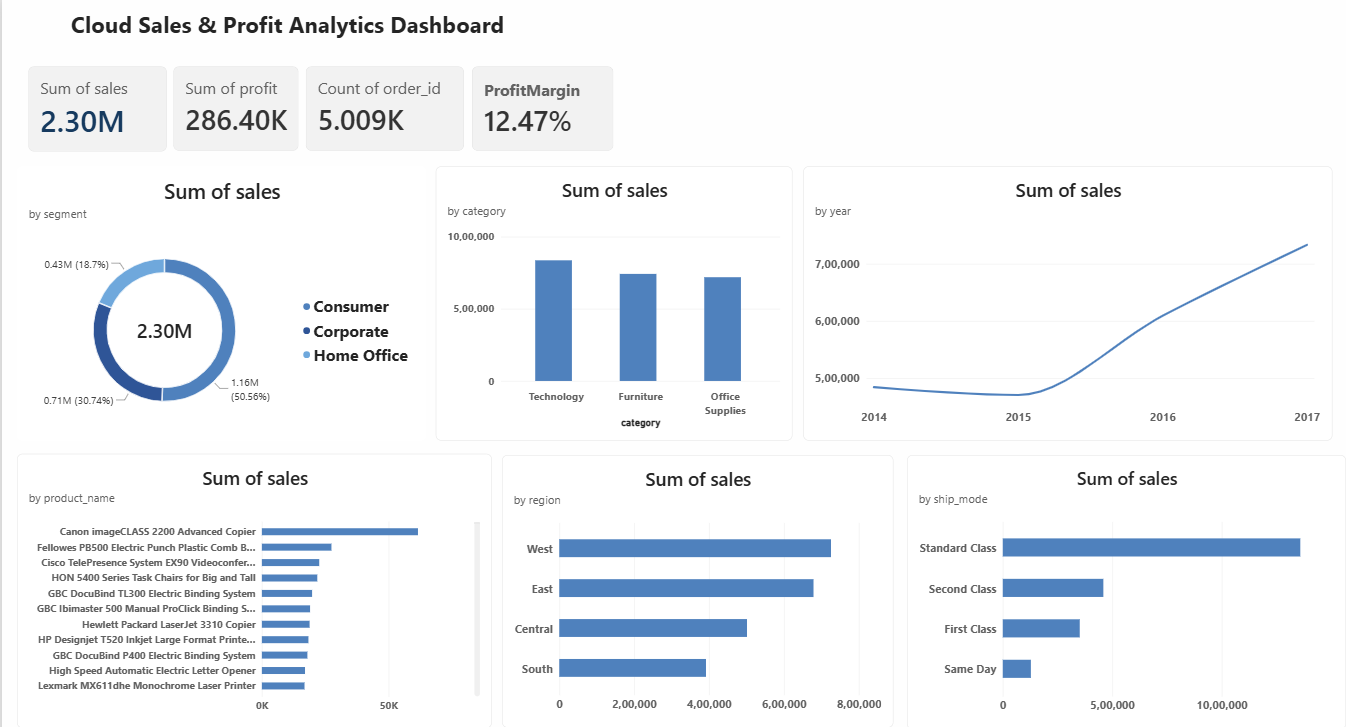

What the dashboard file says about the page in this screenshot:
{"tool":"powerbi","page":{"name":"Page 1","canvas":[1920,1080],"ordinal":0},"visuals":[{"type":"cardVisual","fields":{"Data":["Sum(cloud_analytics fact_sales.sales)"]},"box":[36.8,93.8,198.2,122.3],"z":0},{"type":"cardVisual","fields":{"Data":["Sum(cloud_analytics fact_sales.profit)"]},"box":[244,95.4,179.8,121.1],"z":1000},{"type":"cardVisual","fields":{"Data":["Count(cloud_analytics fact_sales.order_id)"]},"box":[434,93.8,226.2,121.4],"z":2000},{"type":"columnChart","fields":{"Category":["cloud_analytics dim_product.category"],"Y":["Sum(cloud_analytics fact_sales.sales)"]},"box":[619.8,237.2,509.4,391.7],"z":3000},{"type":"clusteredBarChart","fields":{"Category":["cloud_analytics dim_location.region"],"Y":["Sum(cloud_analytics fact_sales.sales)"]},"box":[713.6,649.2,559.1,389.9],"z":4000},{"type":"lineChart","fields":{"Y":["Sum(cloud_analytics fact_sales.sales)"],"Category":["cloud_analytics dim_date.year"]},"box":[1143.9,237.2,755.9,391.7],"z":5000},{"type":"clusteredBarChart","fields":{"Category":["cloud_analytics dim_product.product_name"],"Y":["Sum(cloud_analytics fact_sales.sales)"]},"box":[22.1,647.4,678.6,391.7],"z":6000},{"type":"donutChart","fields":{"Category":["cloud_analytics dim_customer.segment"],"Y":["Sum(cloud_analytics fact_sales.sales)"]},"box":[22.1,237.2,584.8,391.7],"z":8000},{"type":"clusteredBarChart","fields":{"Category":["cloud_analytics fact_sales.ship_mode"],"Y":["Sum(cloud_analytics fact_sales.sales)"]},"box":[1292.9,649.2,627.1,391.7],"z":9000},{"type":"textbox","box":[36.8,12.9,741.1,66.2],"z":10000},{"type":"cardVisual","fields":{"Data":["cloud_analytics fact_sales.ProfitMargin"]},"box":[671.3,93.8,202.3,121.4],"z":10001}]}

Visuals, with their boxes on the page's 1920x1080 design canvas (x1, y1, x2, y2). These are canvas units, not pixel positions in the 1346x727 screenshot, which may show the page scaled, cropped or inside an application window:
cardVisual - Sum(cloud_analytics fact_sales.sales): (x1=37, y1=94, x2=235, y2=216)
cardVisual - Sum(cloud_analytics fact_sales.profit): (x1=244, y1=95, x2=424, y2=216)
cardVisual - Count(cloud_analytics fact_sales.order_id): (x1=434, y1=94, x2=660, y2=215)
columnChart - cloud_analytics dim_product.category x Sum(cloud_analytics fact_sales.sales): (x1=620, y1=237, x2=1129, y2=629)
clusteredBarChart - cloud_analytics dim_location.region x Sum(cloud_analytics fact_sales.sales): (x1=714, y1=649, x2=1273, y2=1039)
lineChart - Sum(cloud_analytics fact_sales.sales) x cloud_analytics dim_date.year: (x1=1144, y1=237, x2=1900, y2=629)
clusteredBarChart - cloud_analytics dim_product.product_name x Sum(cloud_analytics fact_sales.sales): (x1=22, y1=647, x2=701, y2=1039)
donutChart - cloud_analytics dim_customer.segment x Sum(cloud_analytics fact_sales.sales): (x1=22, y1=237, x2=607, y2=629)
clusteredBarChart - cloud_analytics fact_sales.ship_mode x Sum(cloud_analytics fact_sales.sales): (x1=1293, y1=649, x2=1920, y2=1041)
textbox: (x1=37, y1=13, x2=778, y2=79)
cardVisual - cloud_analytics fact_sales.ProfitMargin: (x1=671, y1=94, x2=874, y2=215)
